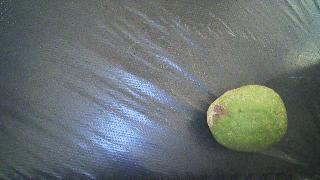DESECHO: (207, 85, 288, 152)
